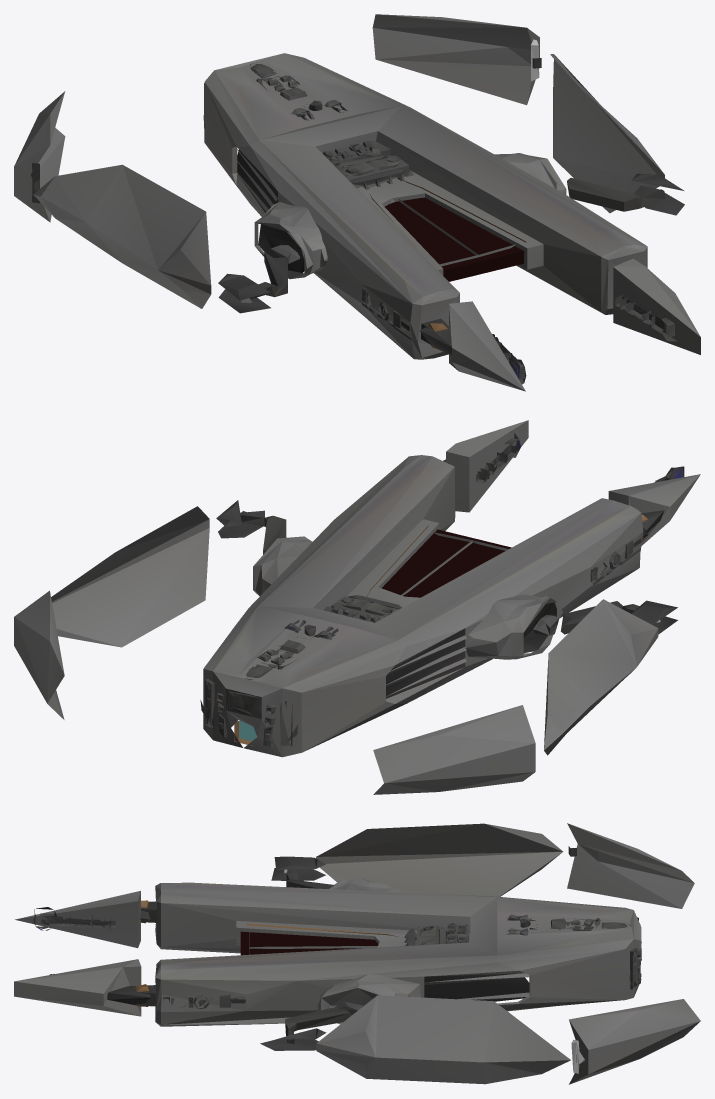
The picture shows the model from 3 angles, top to bottom: view 1: azimuth 30°, elevation 25°; view 2: azimuth 150°, elevation 25°; view 3: azimuth 270°, elevation 25°; orthographic projection. The views are drawn at different scales.
Visible parts, largest first — view 1: ig2000; view 2: ig2000; view 3: ig2000.
Boxes of the visible parts, <box> form: ig2000: <box>14,14,700,391</box>; ig2000: <box>14,420,700,794</box>; ig2000: <box>14,823,700,1084</box>.
Size of the model in its own units: 16.02 by 2.88 by 21.31.
